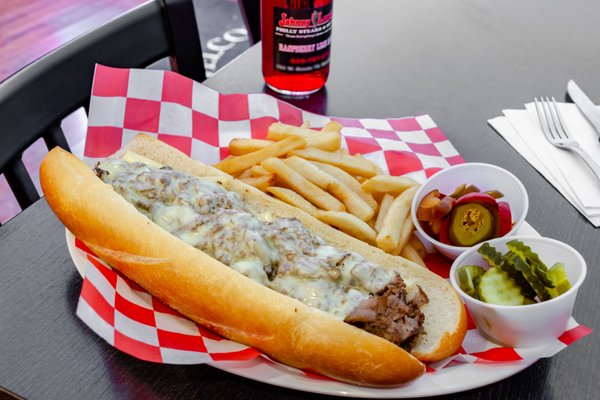burger: (533, 93, 600, 184)
sandwich: (566, 78, 600, 141)
sushi: (449, 236, 587, 349), (411, 161, 530, 260)
